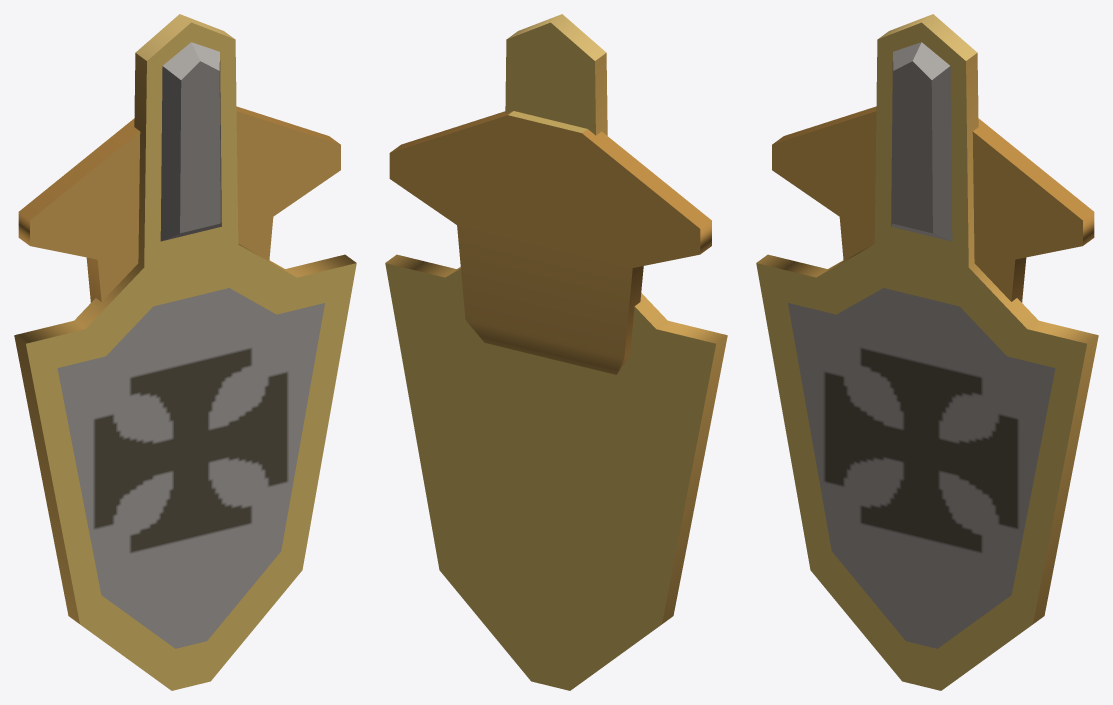
File: SF_Wep_Elven_Sheild_011.fbx
3 views of the same model, side by side, from view 1: azimuth 30°, elevation 25°; view 2: azimuth 150°, elevation 25°; view 3: azimuth 330°, elevation 25° (orthographic).
Visible parts, largest first — view 1: SF_Wep_Elven_Sheild_011; view 2: SF_Wep_Elven_Sheild_011; view 3: SF_Wep_Elven_Sheild_011.
Boxes of the visible parts, x1=… form: SF_Wep_Elven_Sheild_011: x1=14, y1=14, x2=356, y2=690; SF_Wep_Elven_Sheild_011: x1=385, y1=14, x2=727, y2=690; SF_Wep_Elven_Sheild_011: x1=756, y1=14, x2=1098, y2=690.
Size of the model in its own units: 0.7938 by 1.52 by 0.1102.
